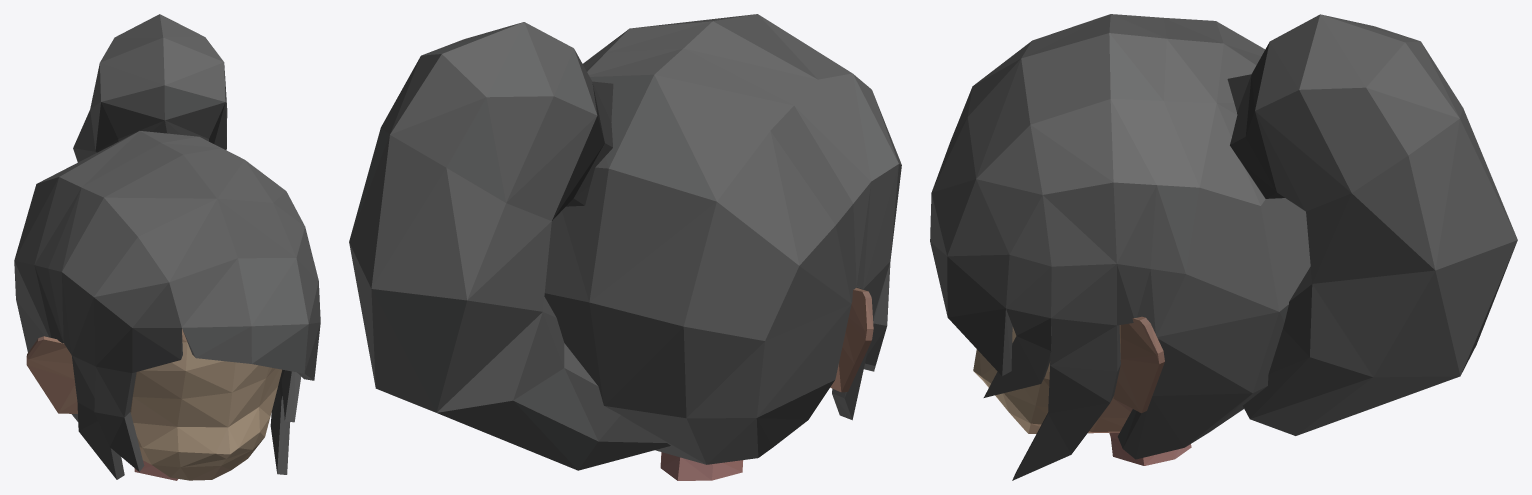
File: helm_lightskin_ponytail_gray.fbx
The picture shows the model from 3 angles, left to right: view 1: azimuth 30°, elevation 25°; view 2: azimuth 150°, elevation 25°; view 3: azimuth 270°, elevation 25°; orthographic projection. The views are drawn at different scales.
Parts seen in each view (by area): view 1: helm_lightskin_ponytail_gray; view 2: helm_lightskin_ponytail_gray; view 3: helm_lightskin_ponytail_gray.
Part boxes in pixels (bbox=[...]): helm_lightskin_ponytail_gray: bbox=[14, 14, 320, 480]; helm_lightskin_ponytail_gray: bbox=[349, 14, 901, 480]; helm_lightskin_ponytail_gray: bbox=[930, 14, 1517, 480].
Size of the model in its own units: 1.21 by 1.49 by 1.64.
